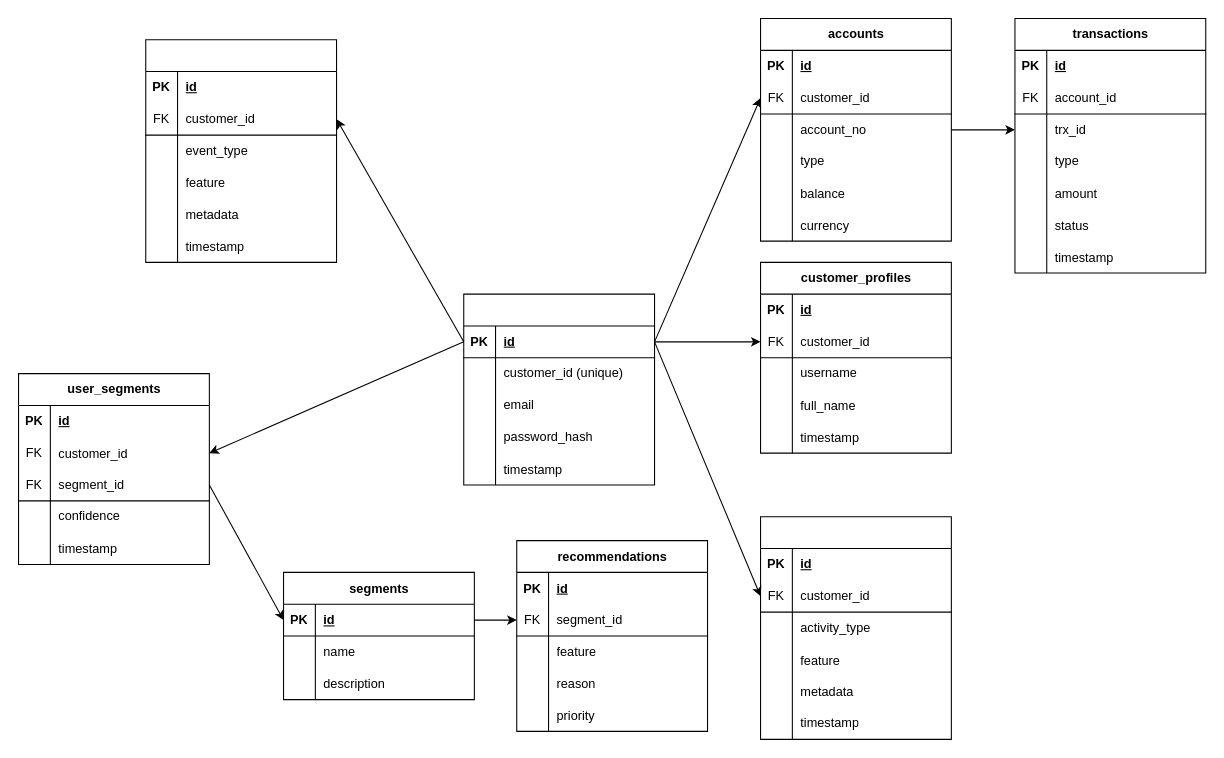
The diagram is 1224 pixels wide and 758 high, and some of its shapes have lost their labels. The shapes that lost their labels are listed below. From the top down, each one's box as (x1, y1, x2, y2) in pixels, then its label:
(145, 39, 337, 262): analytics_events
(463, 293, 655, 485): customers
(759, 516, 951, 739): user_activities
